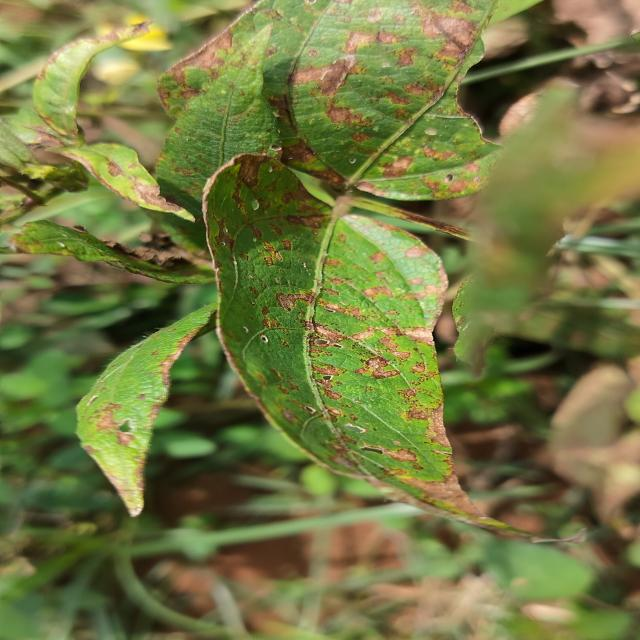Black gram_leaf spot: (202, 153, 518, 533), (143, 0, 526, 204), (77, 299, 222, 516)
